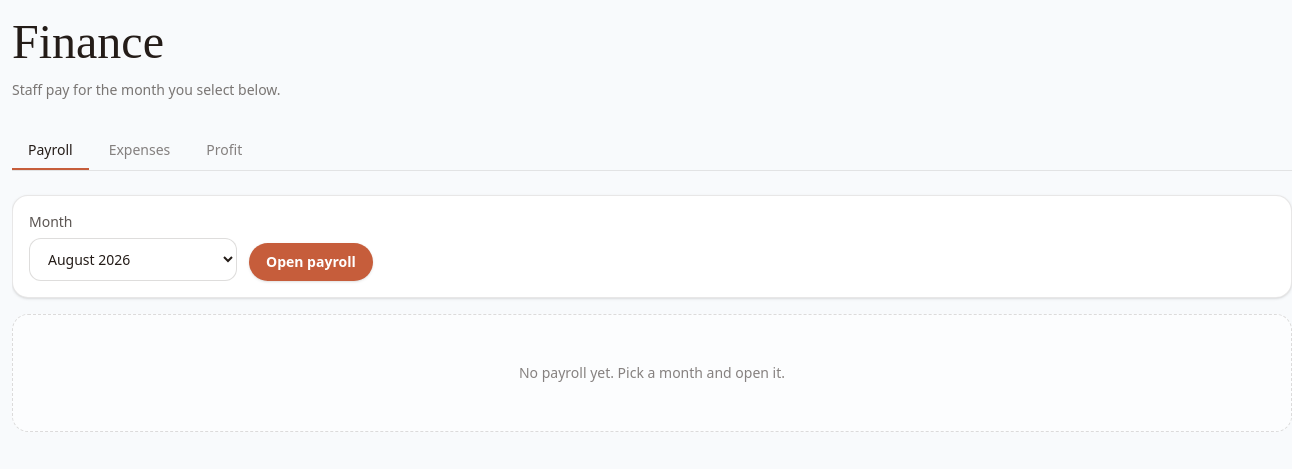
Test: FinanceView — the phone (md:hidden) expense log › falls back to the same em dash as the table when an expense has no note
The width and height of the screenshot is (1292, 469).
Click the button "Expenses".
click(140, 151)  # box [93,132,186,170]
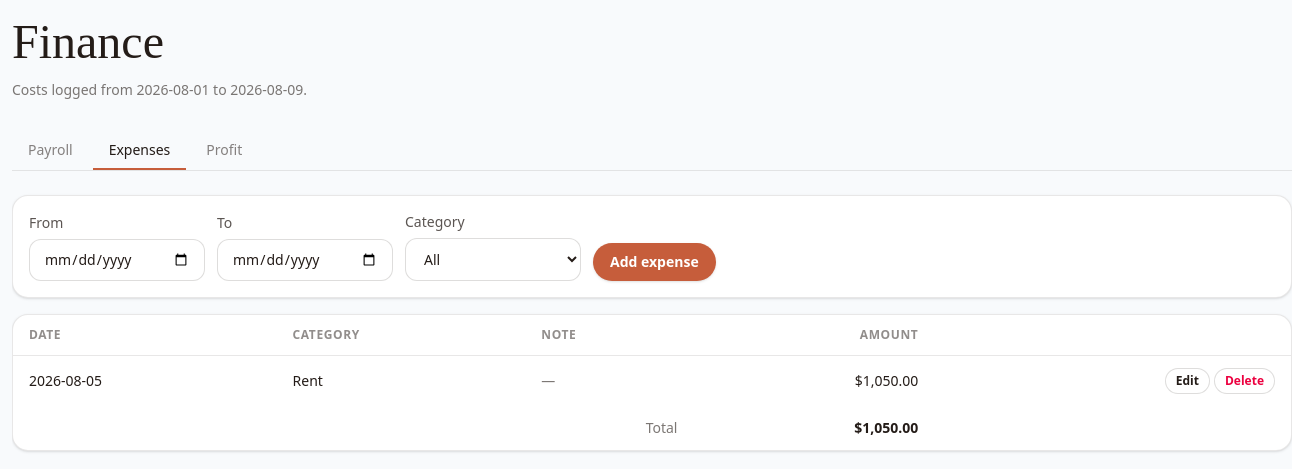
Result: the element that starts with "Date" shows "—" at [541,371,555,390]
